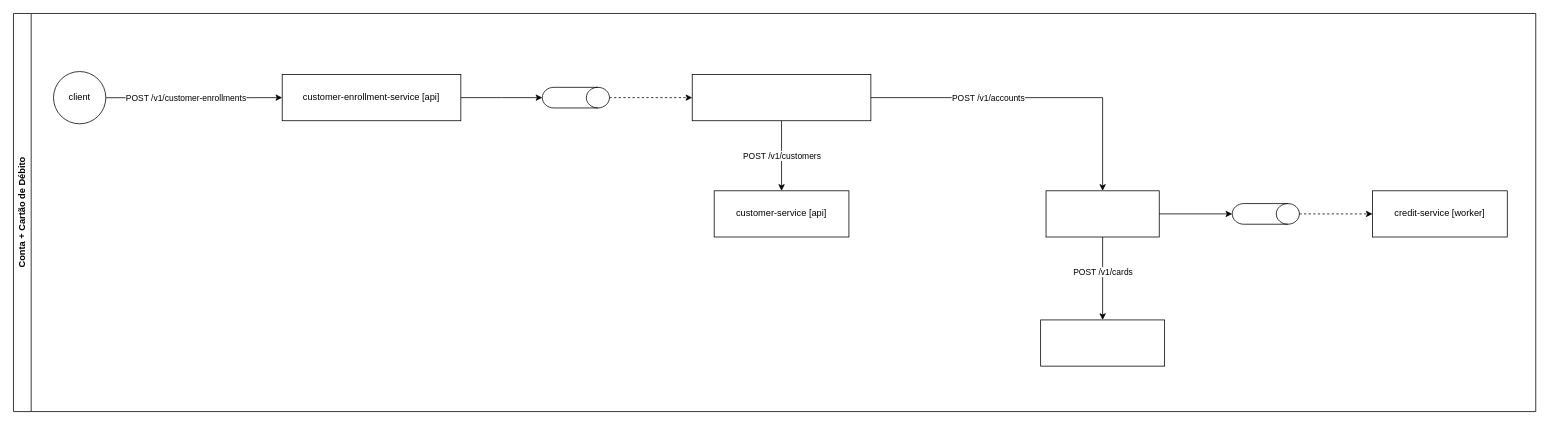
This 1549x425 diagram has some shape labels left out. The box of each missing label's shape, as (x1, y1, x2, y2) in pixels:
account-service [api]: (1045, 190, 1159, 237)
card-service [api]: (1040, 319, 1165, 366)
customer-enrollment-service [worker]: (691, 74, 871, 121)
